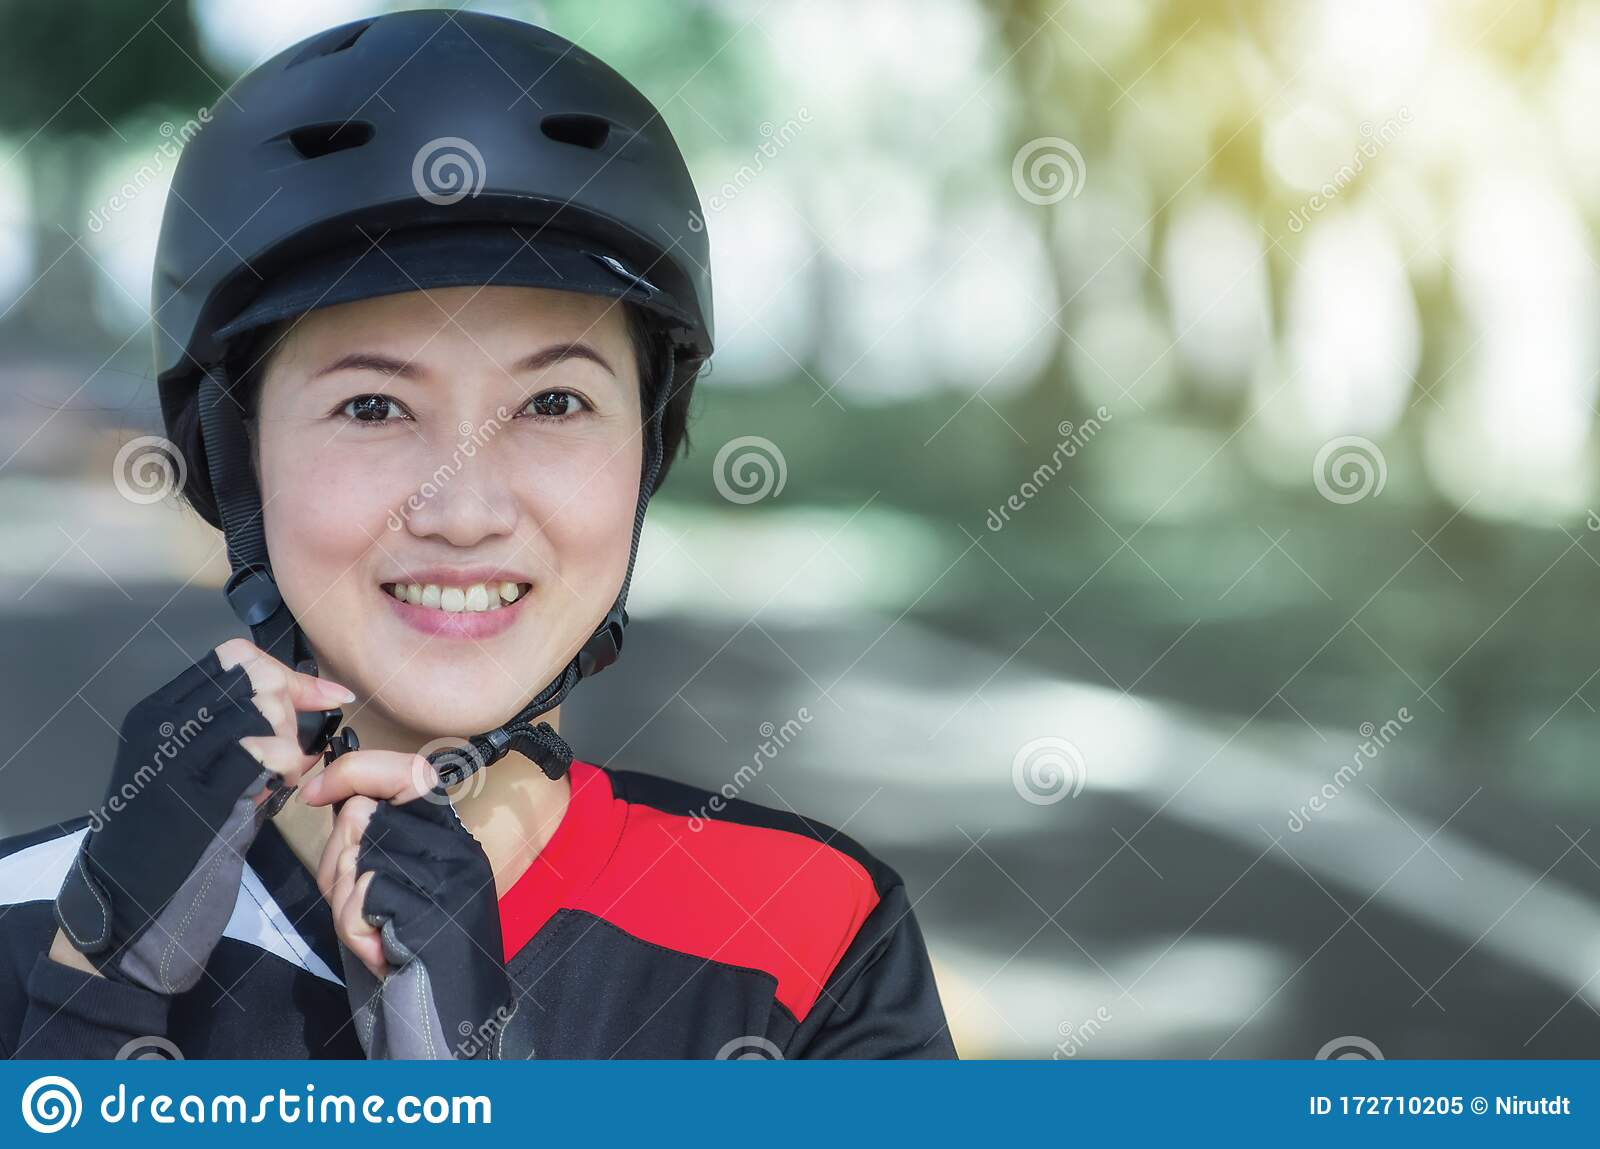helmet: (149, 9, 716, 737)
